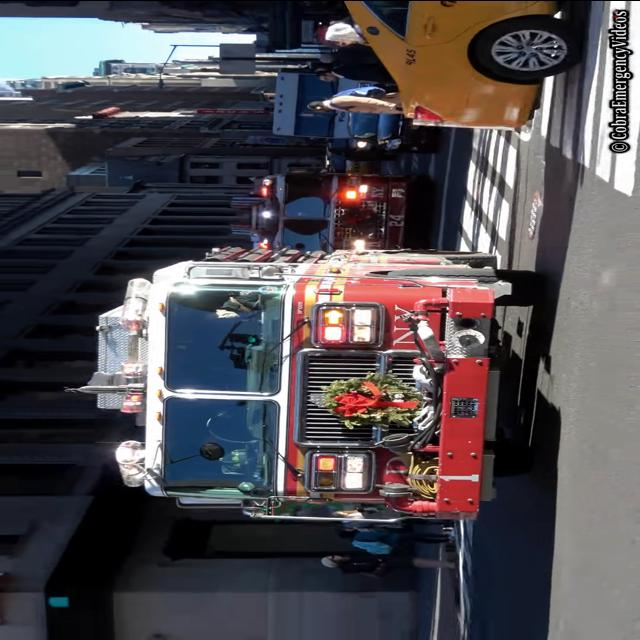emergency-vehicles: (75, 221, 551, 537)
